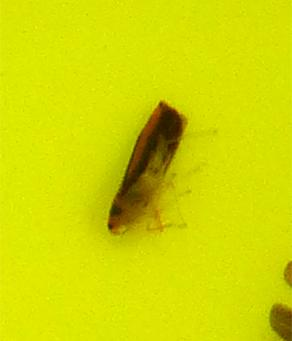Hemiptera: (100, 100, 192, 241)
